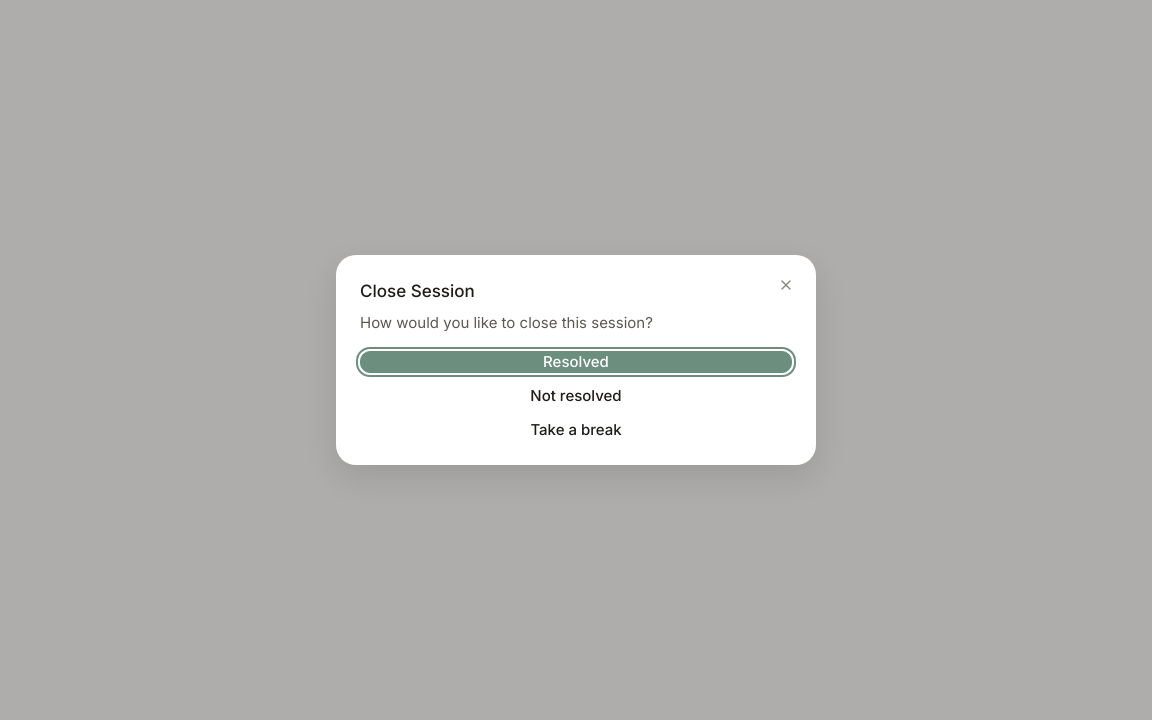
ClosureModal — three-path closure flow › AC: Resolved path — textarea, info message, Propose Resolution / Cancel › Cancel returns to the three-option view
Click the button "Resolved".
click(576, 362)  # box [360,351,792,373]
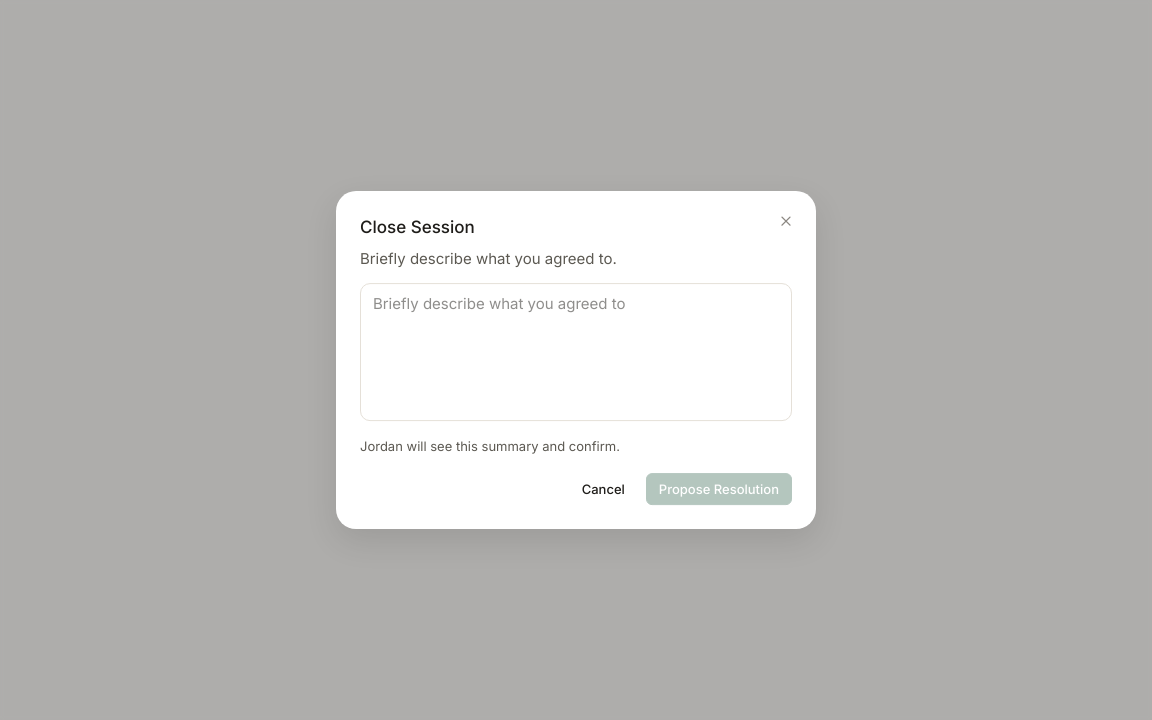
Now the text box is shown, box [360,283,792,421]
Click the button "Cancel".
click(603, 489)  # box [569,473,638,505]
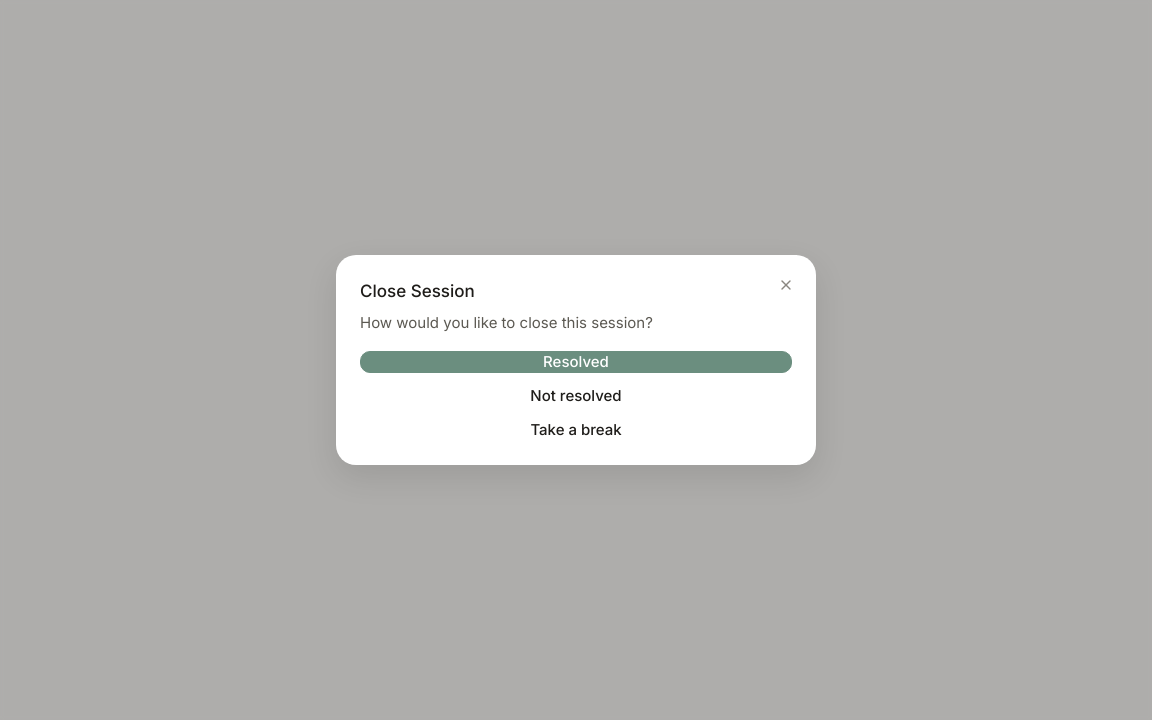
Now the button "Take a break" is shown, box [360,419,792,441]
